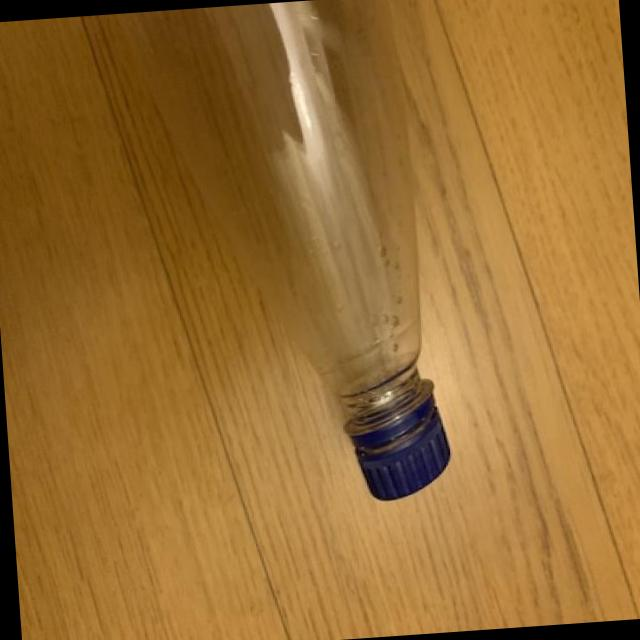plastic_bottle: (119, 0, 454, 517)
